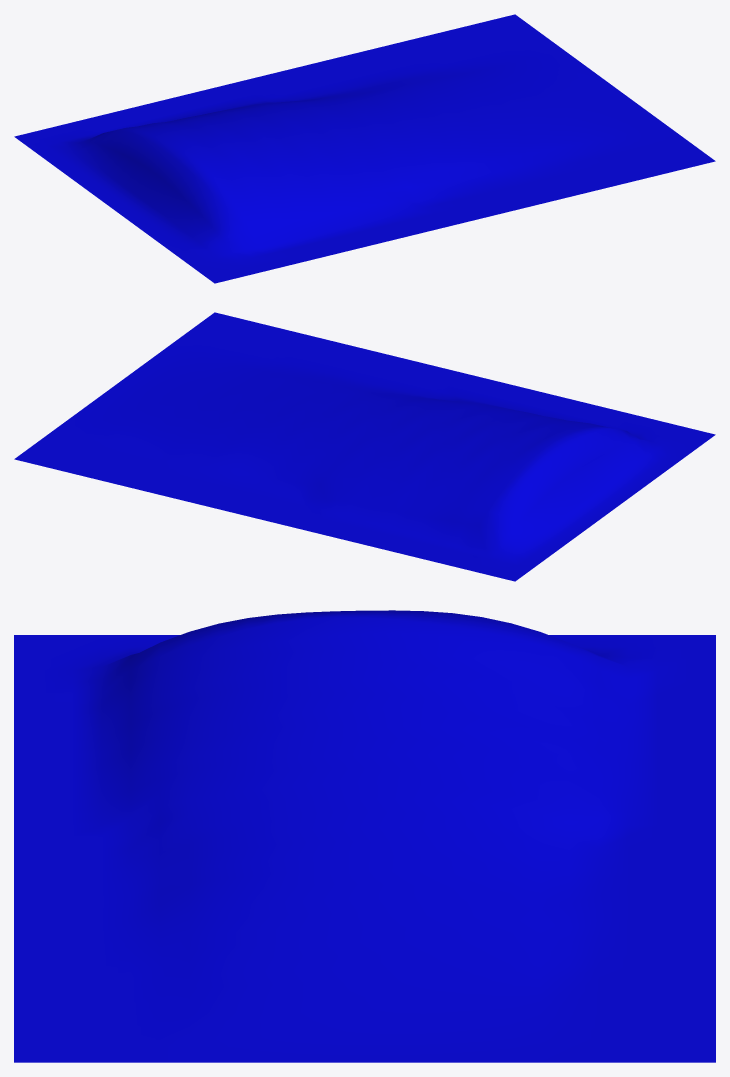
File: sand_drift.glb
The picture shows the model from 3 angles, top to bottom: view 1: azimuth 30°, elevation 25°; view 2: azimuth 150°, elevation 25°; view 3: azimuth 270°, elevation 25°; orthographic projection. The views are drawn at different scales.
Visible parts, largest first — view 1: sand_drift; view 2: sand_drift; view 3: sand_drift.
Boxes of the visible parts, x1,y1,x2,y2 form: sand_drift: (14, 14, 715, 283); sand_drift: (14, 312, 715, 581); sand_drift: (14, 610, 715, 1062).
Size of what is drawn, in the model's own units: 9.8 by 0.8193 by 6.8.
